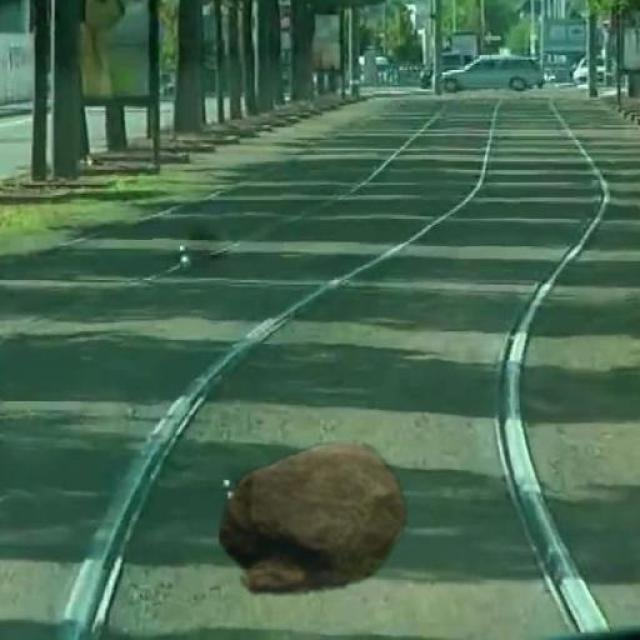Stone: (216, 433, 415, 600)
